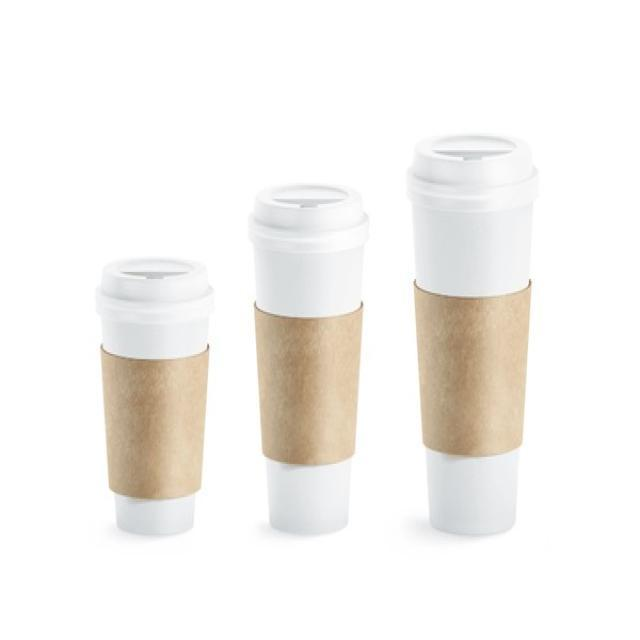Cup: (406, 127, 540, 540), (247, 180, 371, 538), (93, 255, 216, 538)
